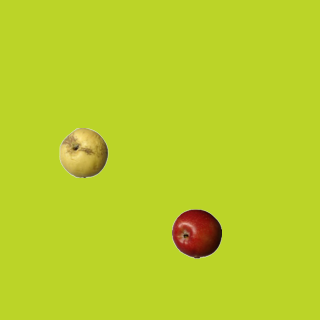Apple Braeburn: (171, 208, 221, 258)
Apple Golden 1: (58, 127, 108, 177)
